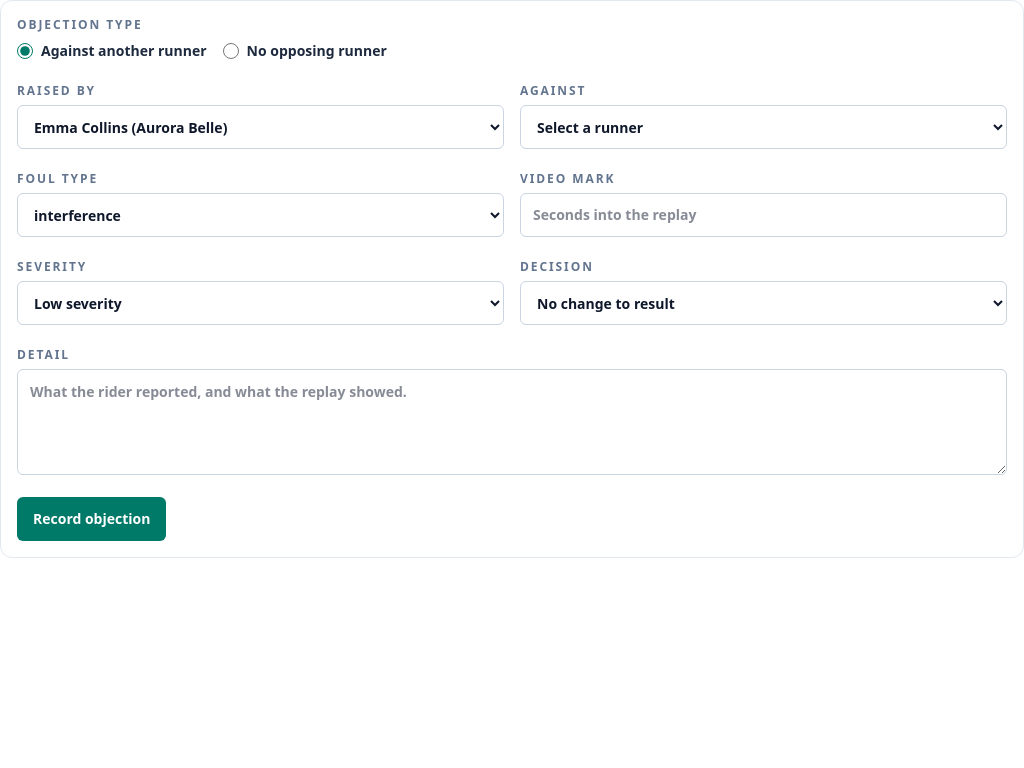
Test: ObjectionForm › switches to the no-opposing-party form and drops the Against field
Click the radio button labelled "No opposing runner". click: (231,51)
box: 223,43 -> 239,59
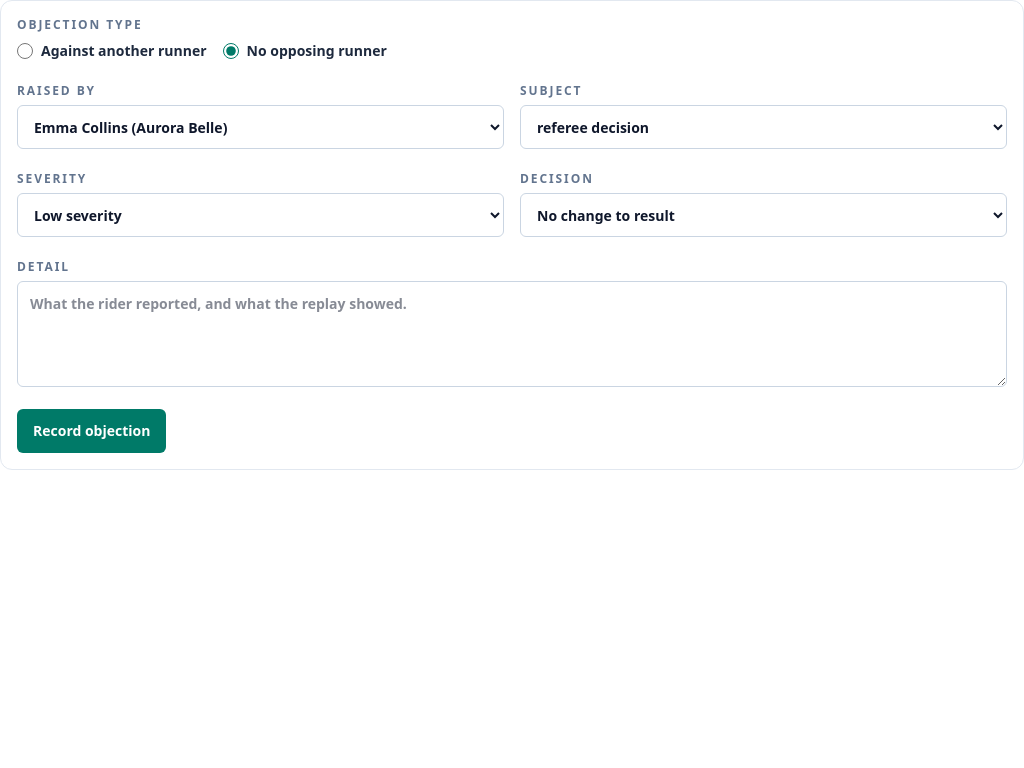
Check: the label labelled "Foul type" is gone
Check: the dropdown labelled "Subject" is shown, box 520,105 -> 1007,149
